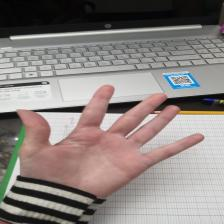five: (13, 85, 208, 207)
